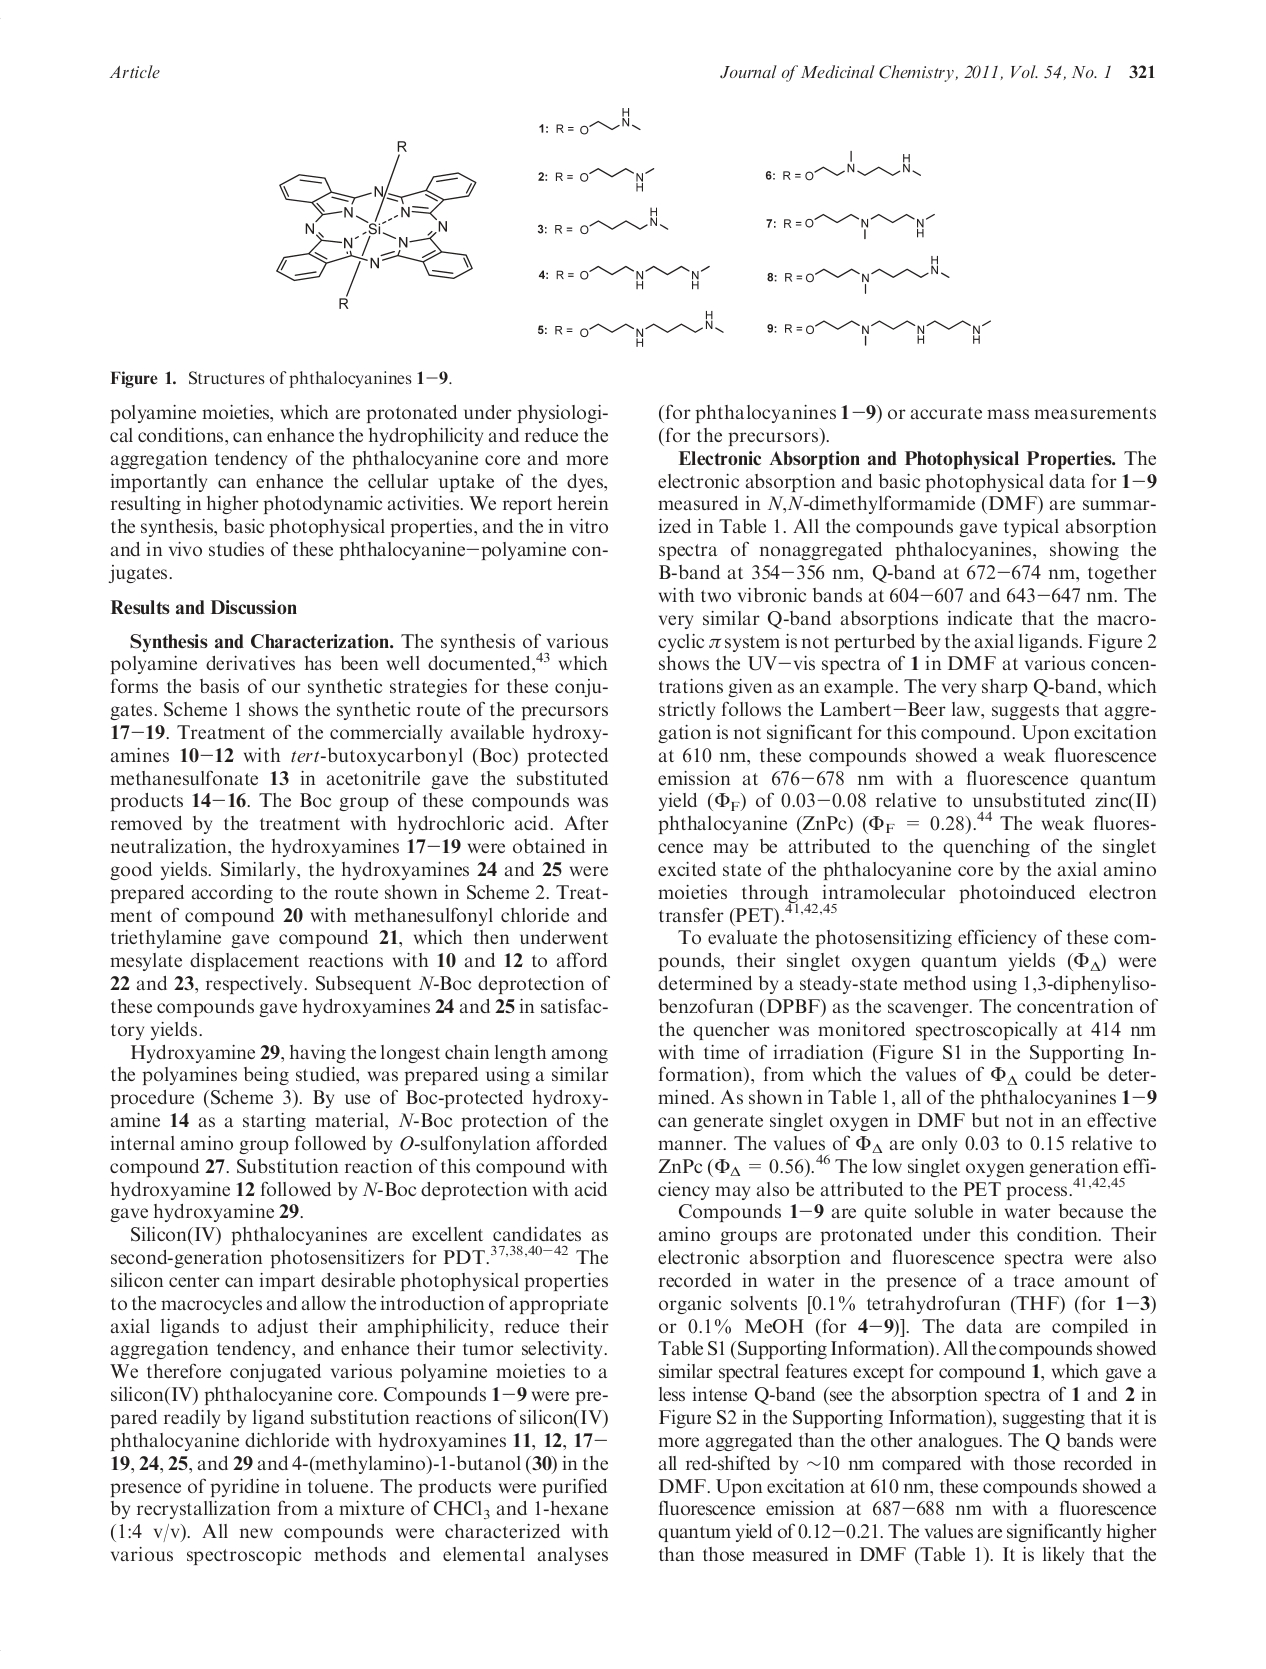exist_molecular: (270, 137, 479, 314), (805, 313, 993, 350), (803, 253, 953, 297), (578, 309, 727, 348), (802, 148, 926, 184), (803, 209, 936, 242), (578, 261, 715, 291), (578, 203, 670, 239), (578, 104, 645, 137), (577, 164, 656, 192)
